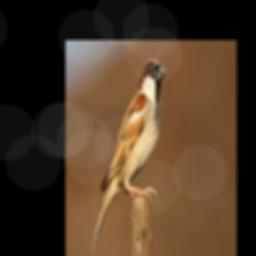Sparrow: (91, 59, 167, 253)
